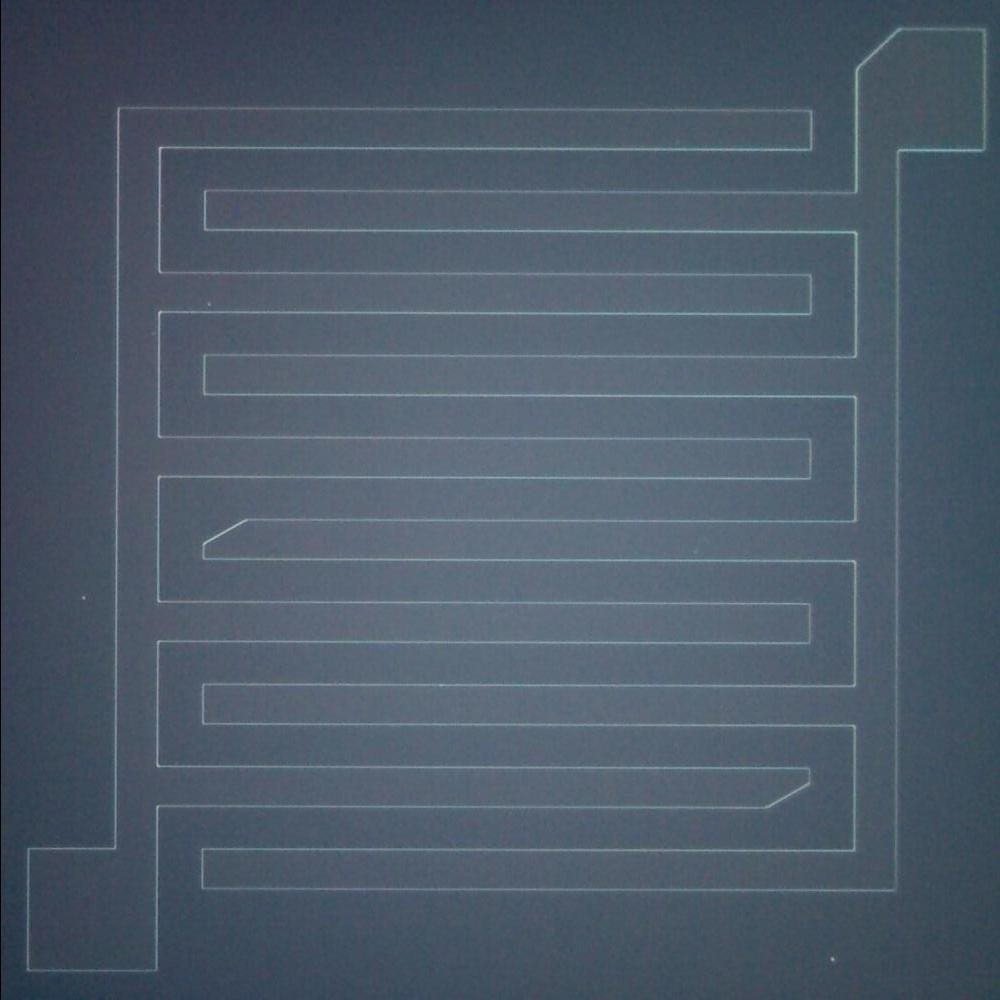dot: (820, 950, 840, 968)
edge circuit: (838, 17, 912, 82), (182, 509, 262, 566), (753, 760, 824, 818)
